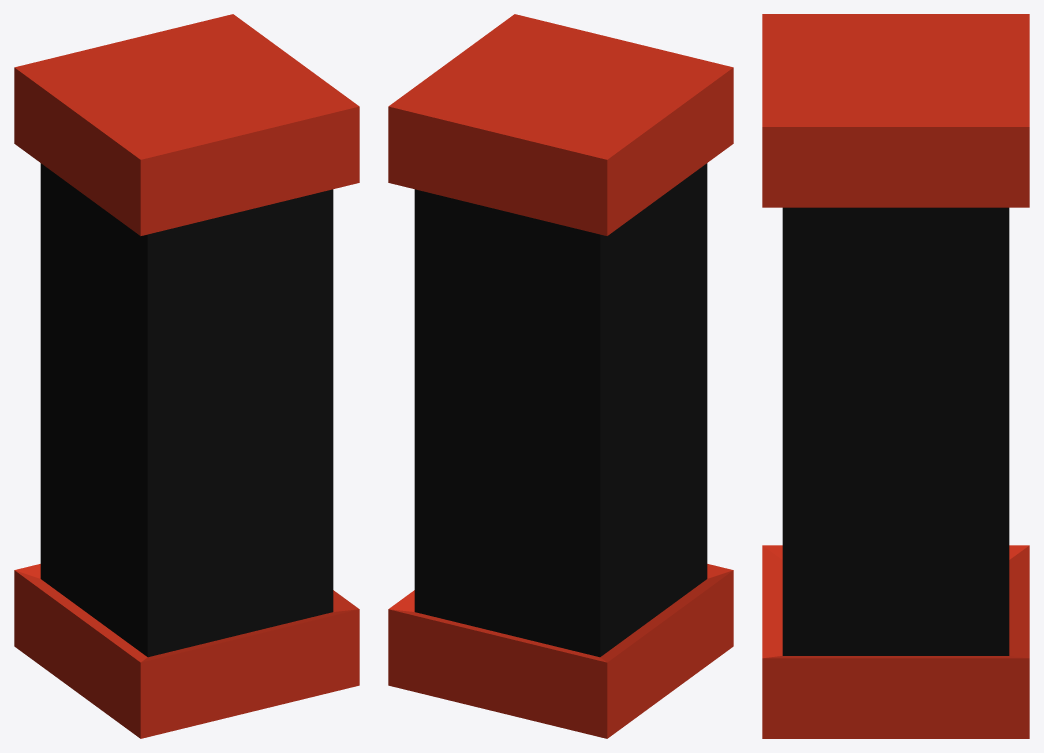
Rendered from Beam.fbx.
3 views of the same model, side by side, from view 1: azimuth 30°, elevation 25°; view 2: azimuth 150°, elevation 25°; view 3: azimuth 270°, elevation 25° (orthographic). The views are drawn at different scales.
Parts seen in each view (by area): view 1: Cube.002; view 2: Cube.002; view 3: Cube.002.
Boxes of the visible parts, x1,y1,x2,y2 form: Cube.002: (14, 14, 359, 738); Cube.002: (388, 14, 733, 738); Cube.002: (762, 14, 1029, 738).
Size of the model in its own units: 236 by 596 by 236.
